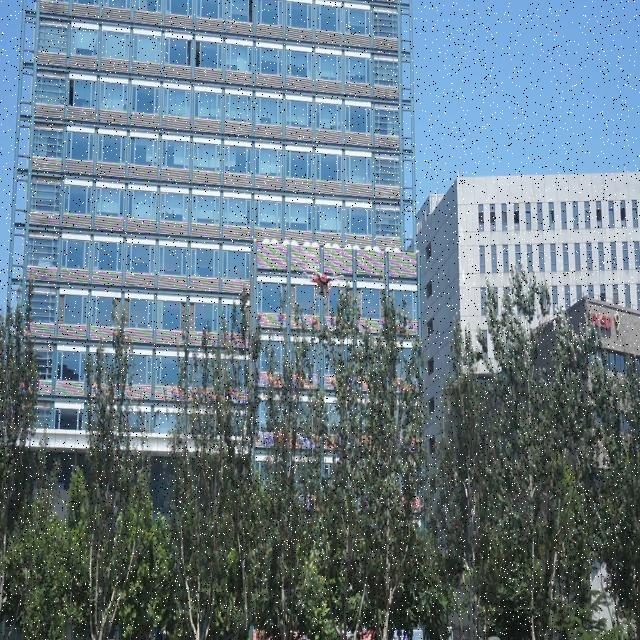UAV: (302, 262, 345, 298)
